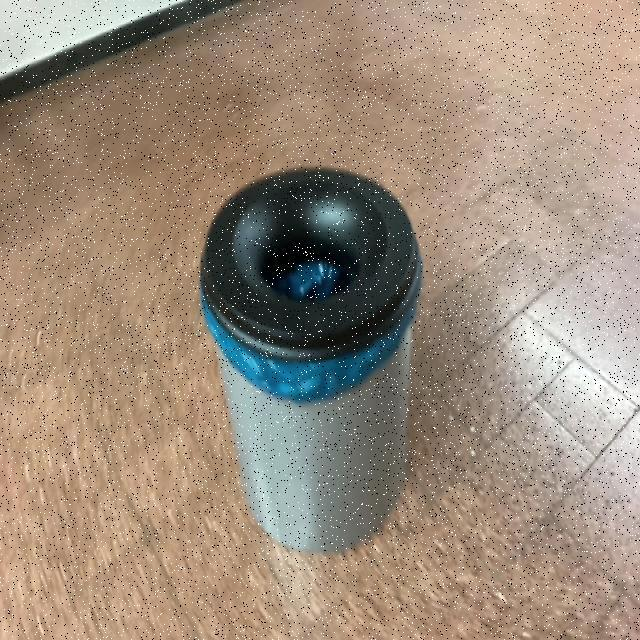garbage container: (198, 148, 428, 560)
